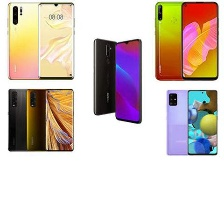phone: (152, 0, 198, 81), (178, 0, 221, 82), (35, 0, 77, 81), (4, 0, 43, 83), (111, 36, 143, 126), (184, 88, 219, 157), (163, 87, 196, 157), (90, 36, 118, 116), (42, 86, 75, 153), (23, 86, 54, 153), (6, 86, 37, 153)
